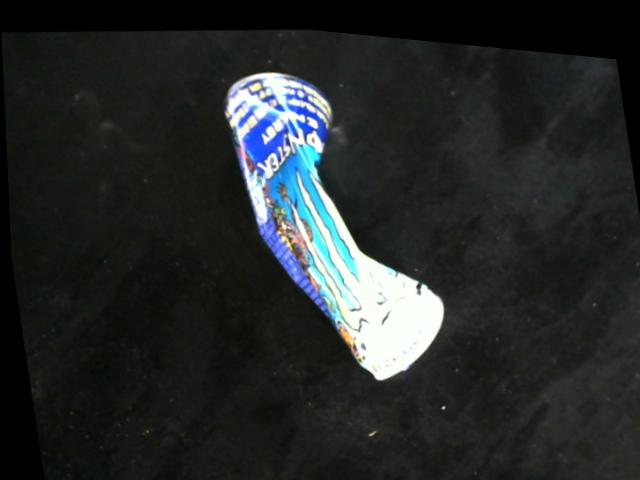can: (219, 68, 441, 374)
